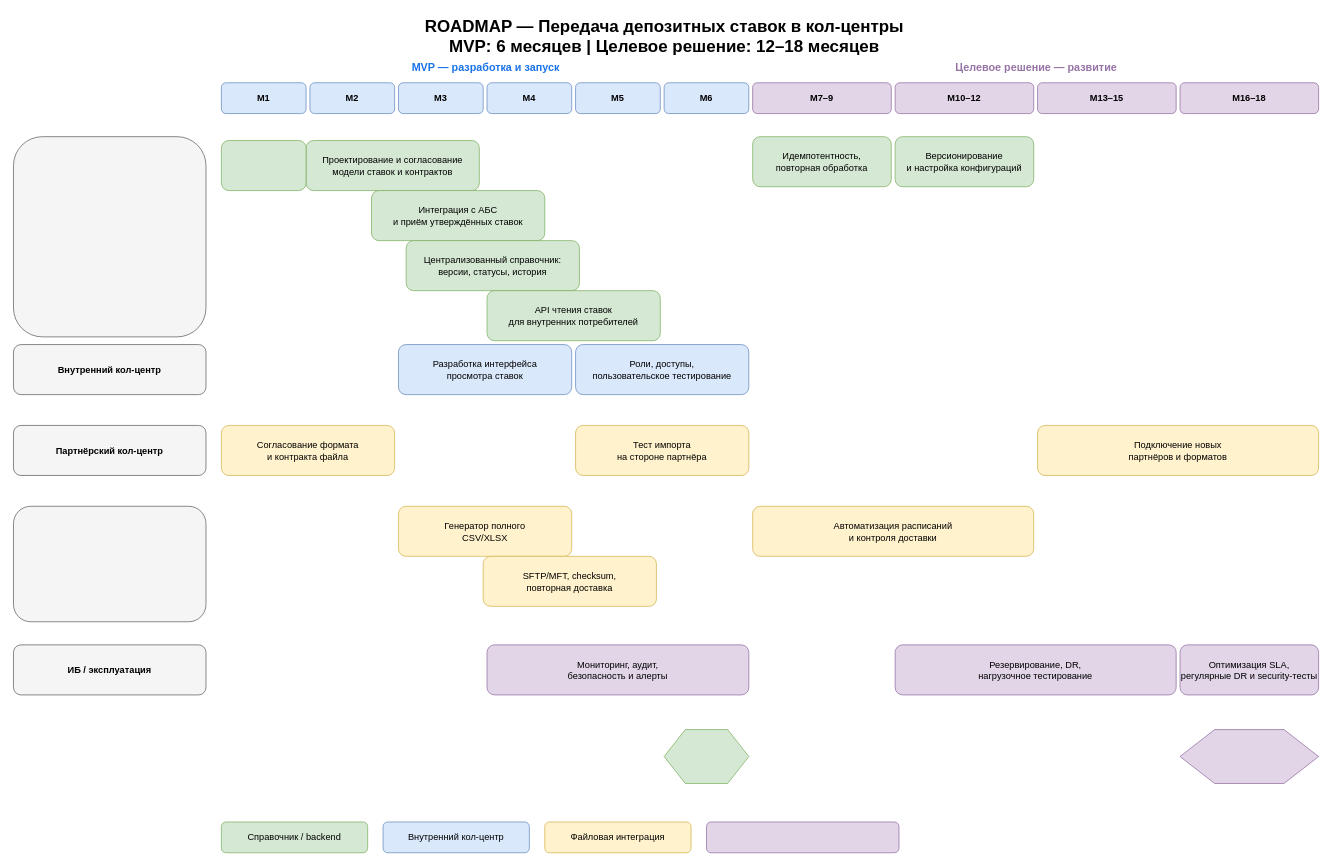
The diagram is 1332 pixels wide and 866 high, and some of its shapes have lost their labels. The centre of each missing label's shape, as x and y in pixels:
АБС / справочник ставок: the point at 109,236
ИБ / эксплуатация / развитие: the point at 802,837
Интеграция / файловый обмен: the point at 109,564
Приемочные тесты, запуск MVP: the point at 706,756
Сбор требований, архитектура: the point at 263,165
Целевое решение: the point at 1249,756
